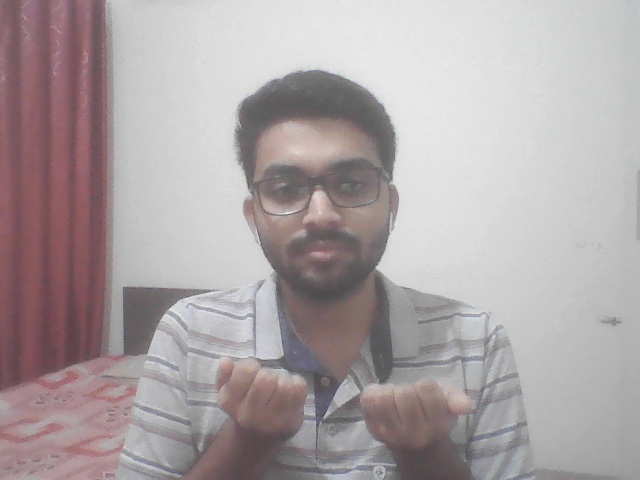want: (173, 327, 499, 472)
